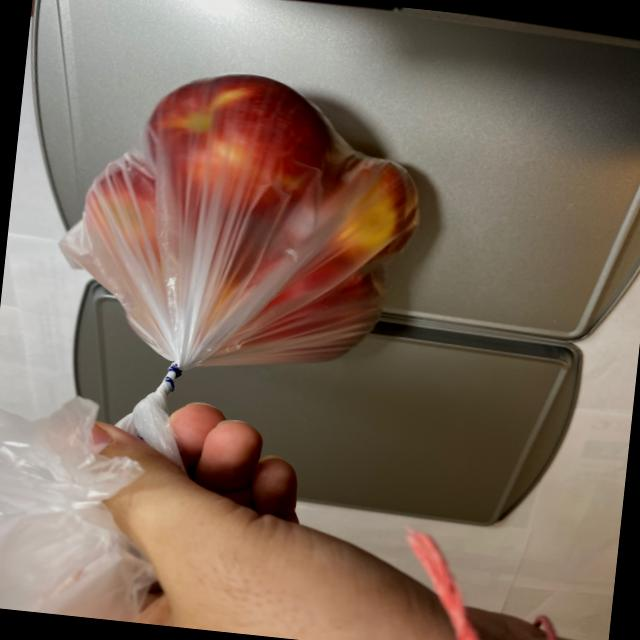apple: (64, 54, 438, 380)
